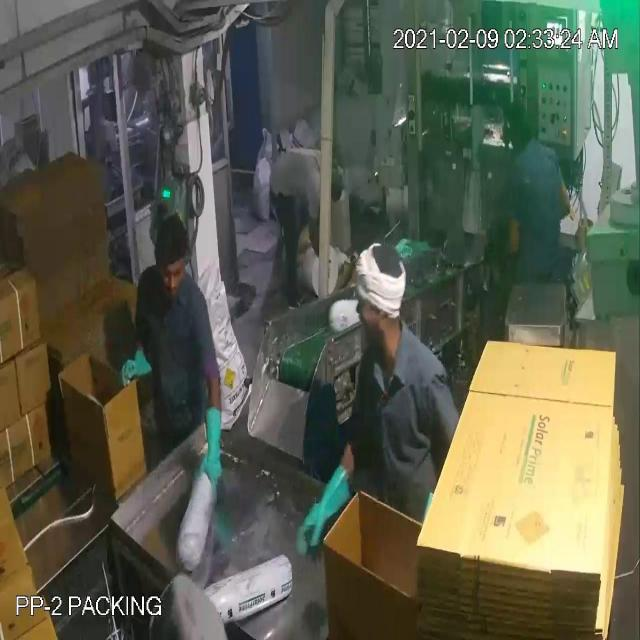Gloves: (42, 66, 324, 511)
